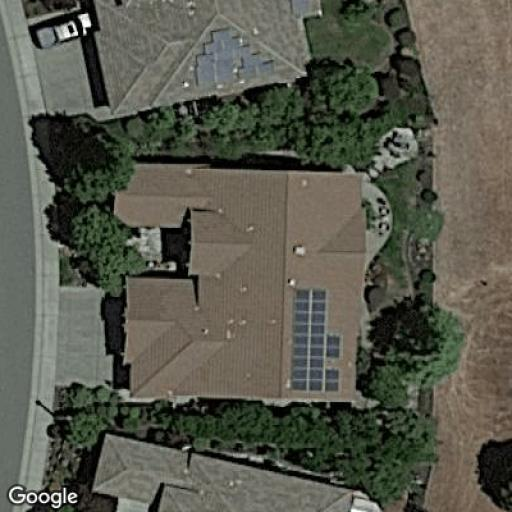solar-panel: (288, 287, 343, 394), (192, 26, 276, 88)
